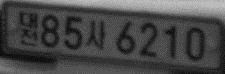0: (185, 26, 205, 61)
1: (162, 24, 182, 58)
2: (139, 21, 158, 58)
5: (64, 14, 83, 50)
6: (115, 20, 136, 54)
8: (40, 13, 60, 47)
대전_V: (19, 11, 38, 47)
사: (84, 18, 106, 50)
